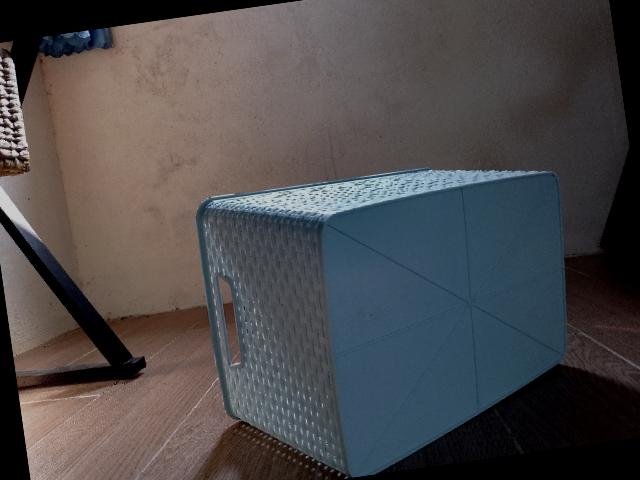cart: (195, 167, 567, 478)
